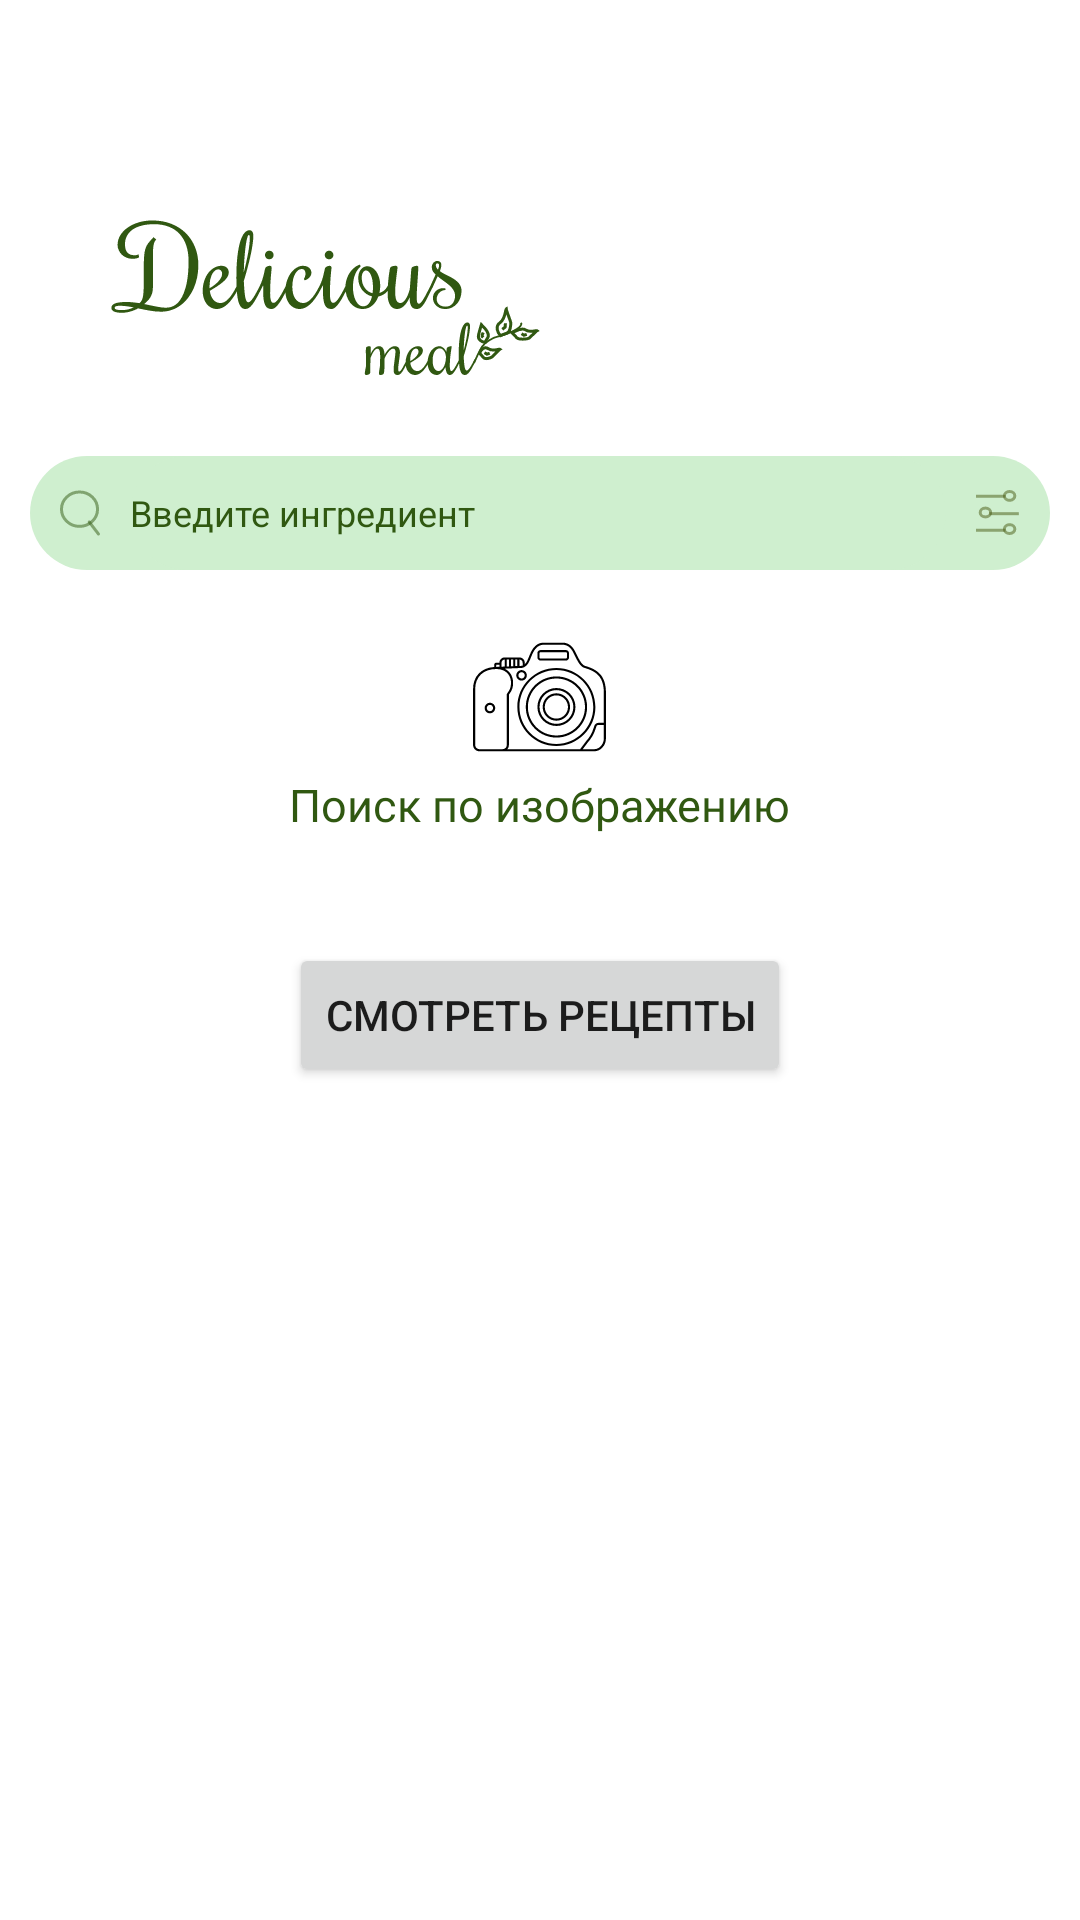

Where to tap for icons on this 1080px×1920px app screen, as [x,y]:
camera: [539,697]
filter: [997,512]
search: [80,513]
